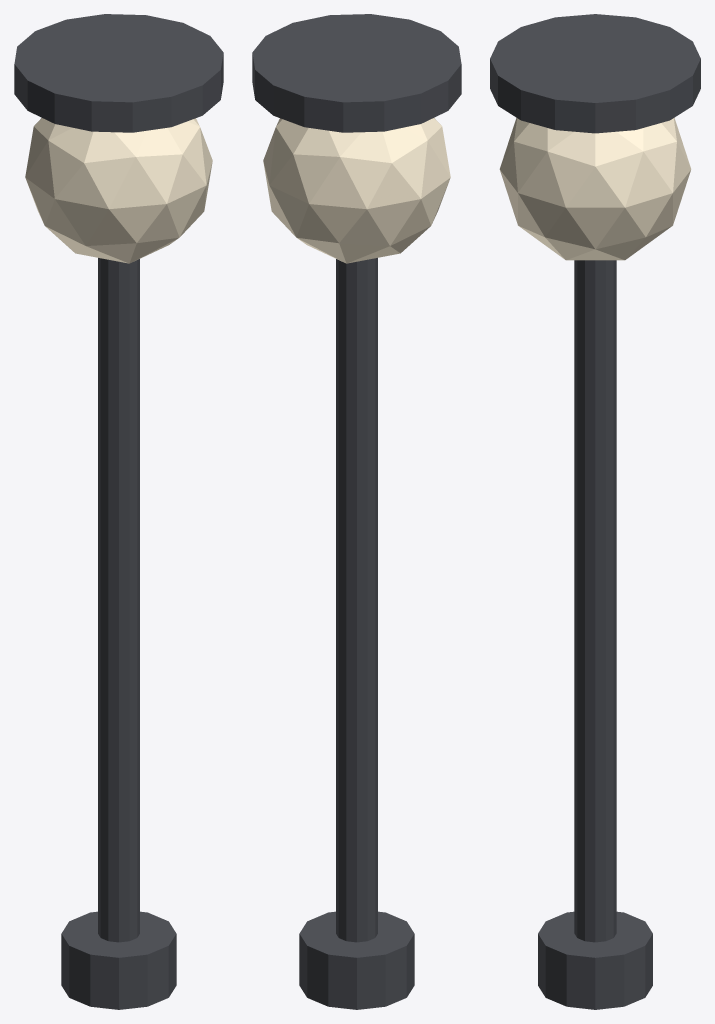
Rendered from LampC.fbx.
The picture shows the model from 3 angles, left to right: view 1: azimuth 30°, elevation 25°; view 2: azimuth 150°, elevation 25°; view 3: azimuth 270°, elevation 25°; orthographic projection.
Parts seen in each view (by area): view 1: Dark.002, Glow.002; view 2: Dark.002, Glow.002; view 3: Dark.002, Glow.002.
Part boxes in pixels (x1,y1,x2,y2): Dark.002: (14, 14, 223, 1009); Glow.002: (25, 118, 212, 263); Dark.002: (252, 14, 461, 1009); Glow.002: (263, 118, 450, 263); Dark.002: (490, 14, 700, 1009); Glow.002: (499, 118, 691, 260).
Size of the model in its own units: 220 by 1068 by 220.
